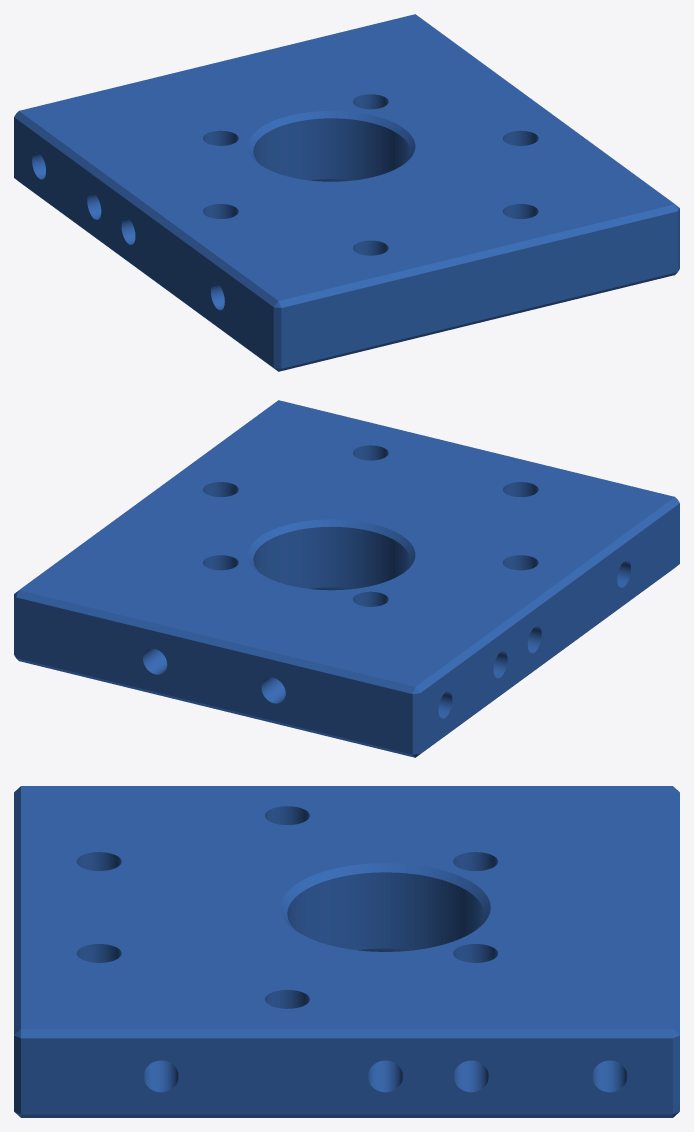
Rendered from 76140-motor-mount.plate.dae.
3 views of the same model, one above another, from view 1: azimuth 30°, elevation 25°; view 2: azimuth 150°, elevation 25°; view 3: azimuth 270°, elevation 25° (orthographic). The views are drawn at different scales.
Visible parts, largest first — view 1: node_e708d8cf_b931_4b15_91eb_908f86e7272f_mesh0; view 2: node_e708d8cf_b931_4b15_91eb_908f86e7272f_mesh0; view 3: node_e708d8cf_b931_4b15_91eb_908f86e7272f_mesh0.
Boxes of the visible parts, left/top/right/bottom form: node_e708d8cf_b931_4b15_91eb_908f86e7272f_mesh0: left=14, top=14, right=679, bottom=371; node_e708d8cf_b931_4b15_91eb_908f86e7272f_mesh0: left=14, top=400, right=679, bottom=757; node_e708d8cf_b931_4b15_91eb_908f86e7272f_mesh0: left=14, top=786, right=679, bottom=1117.
Bounding box in the file's own units: 42 × 47.5 × 7.
